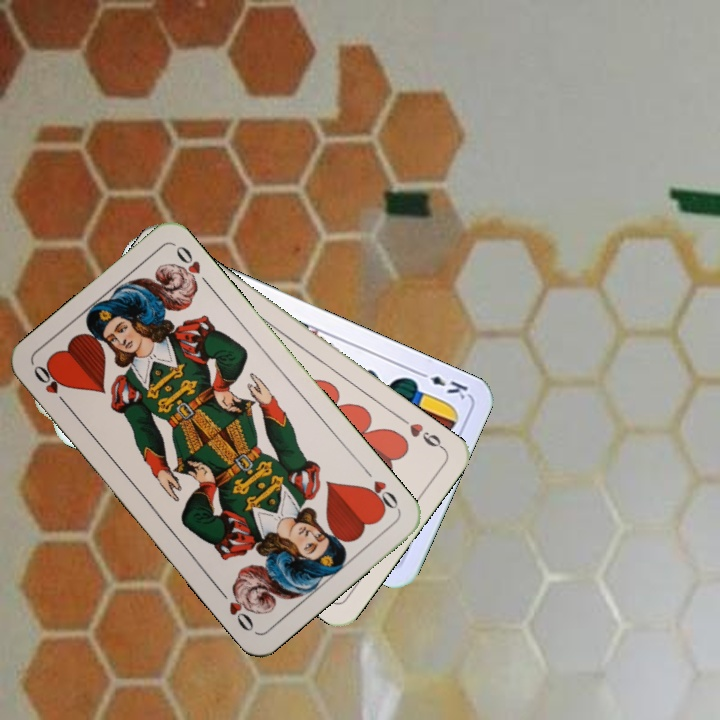EK: (413, 367, 471, 402)
H9: (396, 413, 447, 453)
HO: (359, 463, 402, 515), (29, 361, 72, 411)
